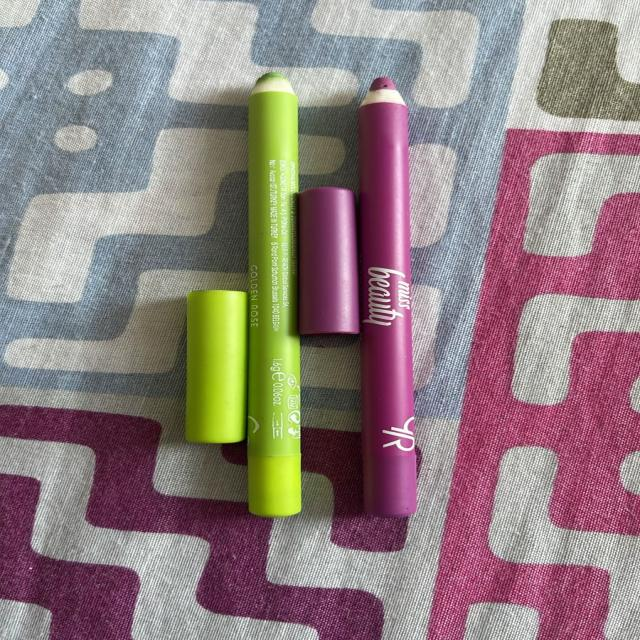eye liner: (336, 62, 465, 526), (228, 59, 320, 527)
